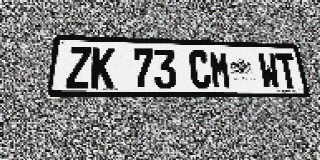3: (154, 49, 176, 89)
7: (132, 48, 154, 89)
C: (189, 50, 212, 89)
K: (90, 47, 115, 89)
M: (209, 51, 232, 89)
T: (275, 53, 299, 89)
W: (257, 52, 281, 89)
Z: (65, 46, 92, 88)
